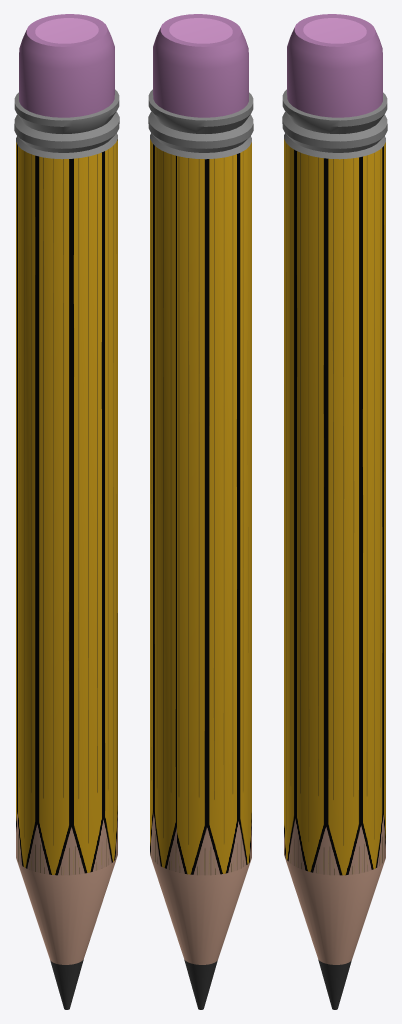
File: Pencil-potlood-Throw.fbx
3 renders of one model, left to right at view 1: azimuth 30°, elevation 25°; view 2: azimuth 150°, elevation 25°; view 3: azimuth 330°, elevation 25°, orthographic.
Visible parts, largest first — view 1: Cylinder.002; view 2: Cylinder.002; view 3: Cylinder.002.
Part boxes in pixels (x1,y1,x2,y2): Cylinder.002: (14, 14, 119, 1009); Cylinder.002: (148, 14, 253, 1009); Cylinder.002: (282, 14, 387, 1009).
Bounding box in the file's own units: 52.55 × 527 × 48.27.
Materials: 7 (1 with a texture image).
